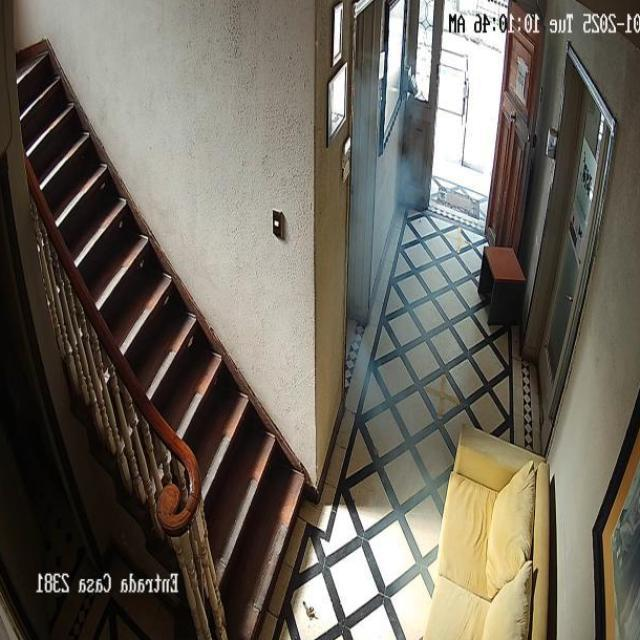fire: (350, 35, 479, 640)
